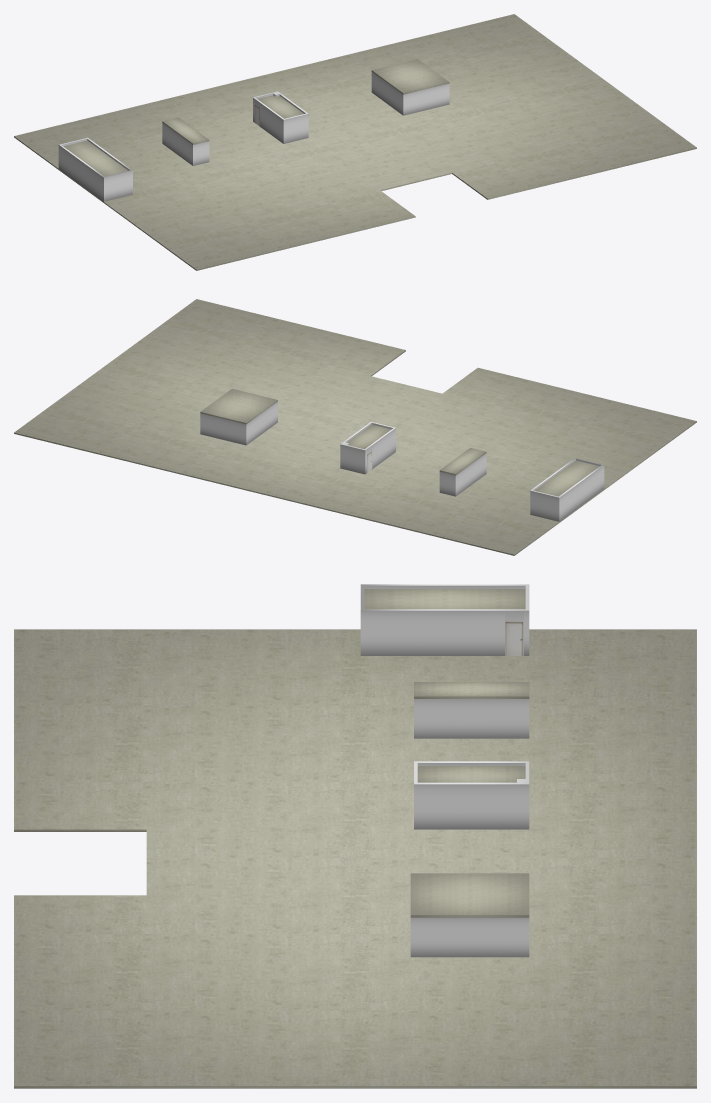
Rendered from QM-ROOF.glb.
3 views of the same model, one above another, from view 1: azimuth 30°, elevation 25°; view 2: azimuth 150°, elevation 25°; view 3: azimuth 270°, elevation 25° (orthographic). The views are drawn at different scales.
Parts seen in each view (by area): view 1: Line031, Rectangle2151, ROOF-1; view 2: Line031, Rectangle2151, ROOF-1; view 3: Line031, Rectangle2151, ROOF-1.
Part boxes in pixels (bbox=[...]): Line031: bbox=[14, 14, 696, 270]; Rectangle2151: bbox=[58, 72, 449, 201]; ROOF-1: bbox=[63, 59, 449, 176]; Line031: bbox=[14, 299, 696, 555]; Rectangle2151: bbox=[200, 401, 604, 521]; ROOF-1: bbox=[200, 388, 599, 496]; Line031: bbox=[14, 629, 696, 1088]; Rectangle2151: bbox=[360, 584, 529, 957]; ROOF-1: bbox=[364, 589, 529, 917].
Bounding box in the file's own units: 61.9 × 3.01 × 39.1.
Materials: 3 (3 with a texture image).
